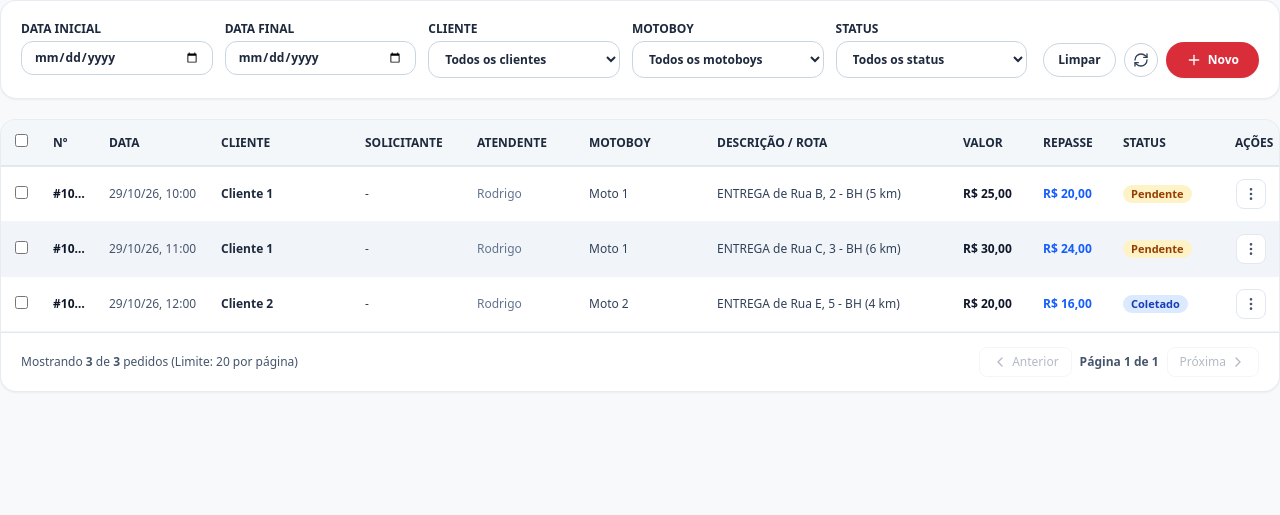
Test case: OrdersScreen › should allow selecting multiple orders only with the same status and execute batch status change sequentially one by one
Later steps or results of the test are not shown.
expect the text "#1001" is shown: met, box left=41, top=166, right=97, bottom=222
expect the checkbox with test id "select-order-ord-p2" is enabled: met, box left=14, top=240, right=28, bottom=254
# Select first PENDENTE order (#1001)
Click the checkbox with test id "select-order-ord-p1" at (21, 192), box left=14, top=186, right=28, bottom=198
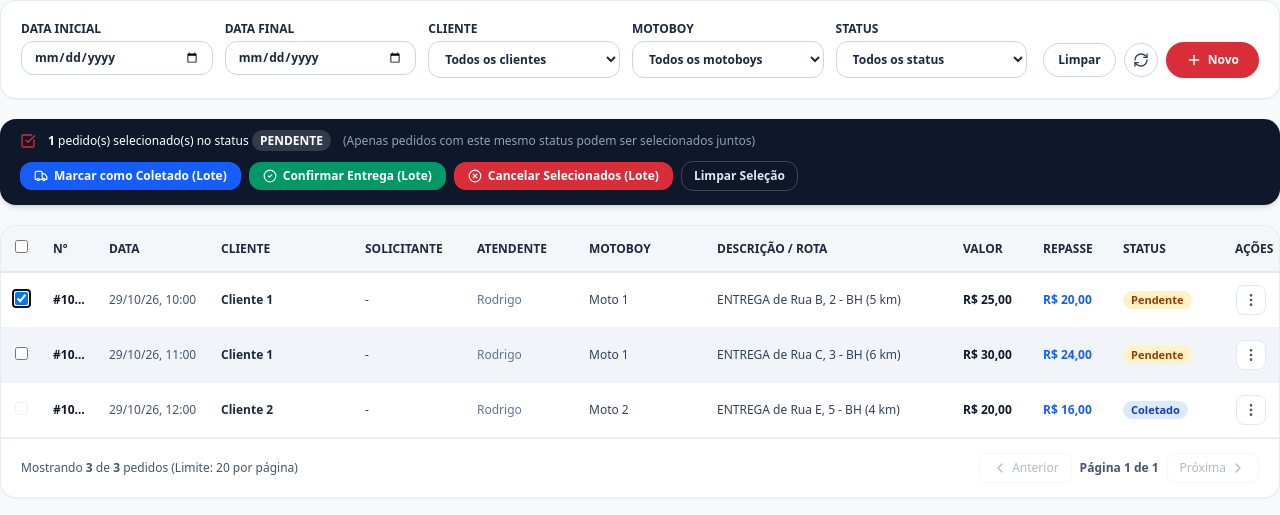
expect the checkbox with test id "select-order-ord-p1" is checked: met, box left=14, top=292, right=28, bottom=304
# Select second PENDENTE order (#1002)
Click the checkbox with test id "select-order-ord-p2" at (21, 353), box left=14, top=346, right=28, bottom=360
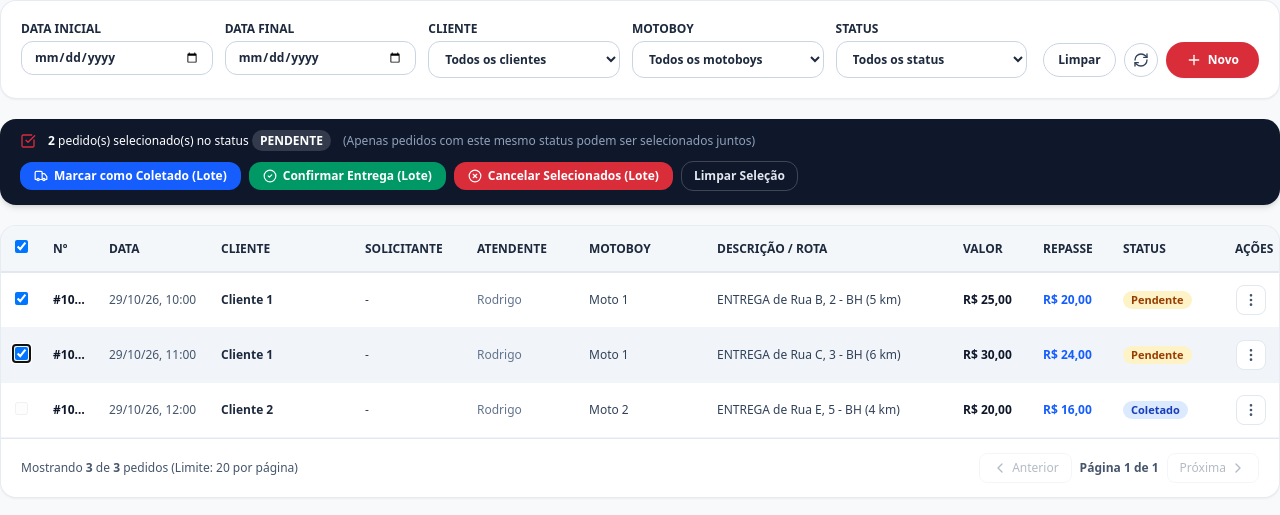
expect the checkbox with test id "select-order-ord-p2" is checked: met, box left=14, top=346, right=28, bottom=360
